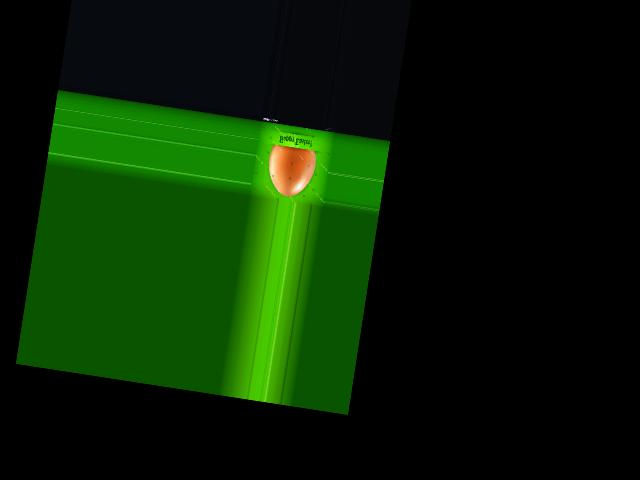egg: (264, 144, 317, 199)
